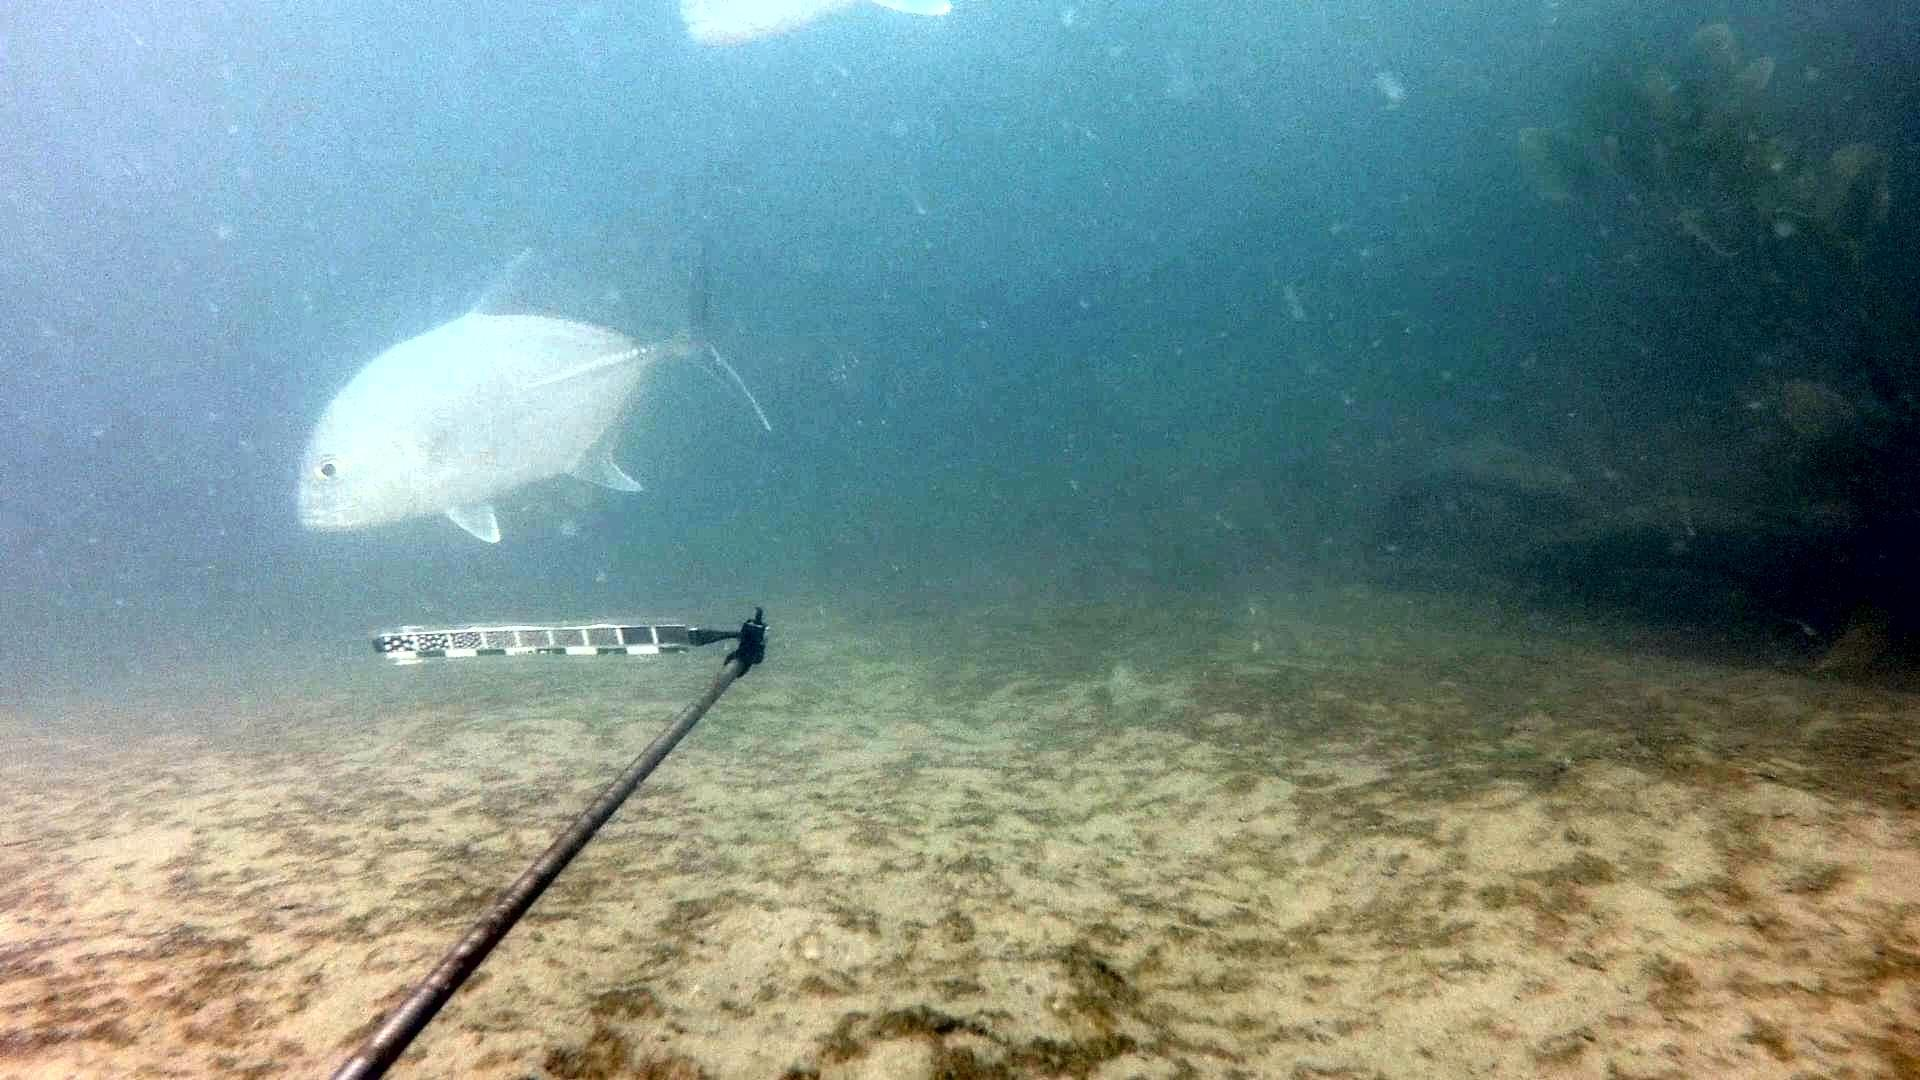caranx: (281, 206, 808, 567)
